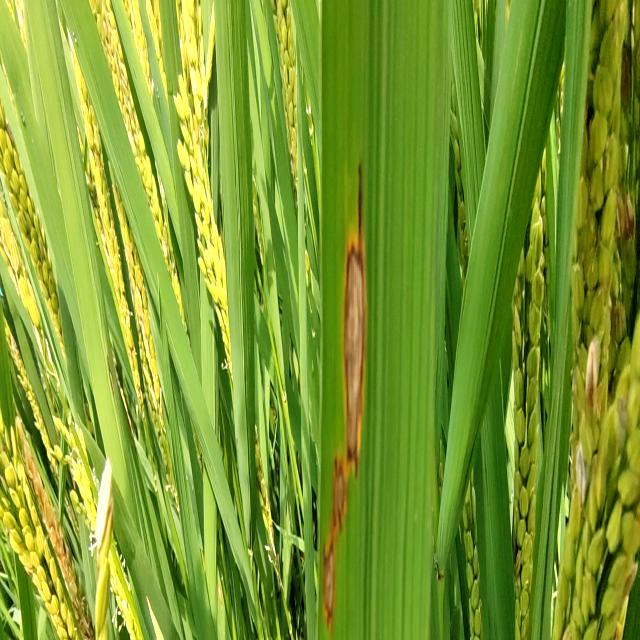LEAF BLAST: (322, 160, 368, 635), (344, 167, 365, 468), (340, 525, 340, 525)
